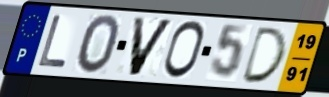5: (209, 22, 249, 84)
D: (238, 26, 290, 85)
L: (35, 13, 69, 70)
O: (74, 13, 122, 76), (161, 19, 207, 81)
V: (127, 15, 177, 78)
